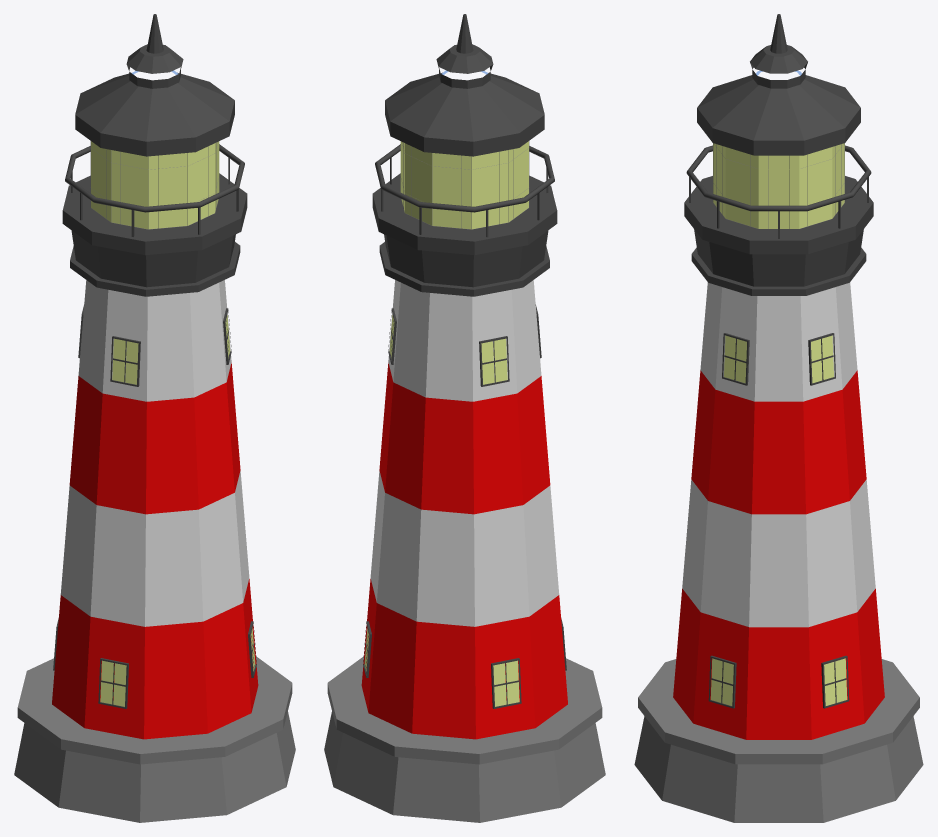
File: poly-lighthouse.glb
The picture shows the model from 3 angles, left to right: view 1: azimuth 30°, elevation 25°; view 2: azimuth 150°, elevation 25°; view 3: azimuth 270°, elevation 25°; orthographic projection.
Parts seen in each view (by area): view 1: Circle; view 2: Circle; view 3: Circle.
Part boxes in pixels (bbox=[...]): Circle: bbox=[14, 14, 295, 822]; Circle: bbox=[324, 14, 605, 822]; Circle: bbox=[634, 14, 923, 822].
Bounding box in the file's own units: 0.3321 × 1 × 0.3491.
1 material, 1 textured.
